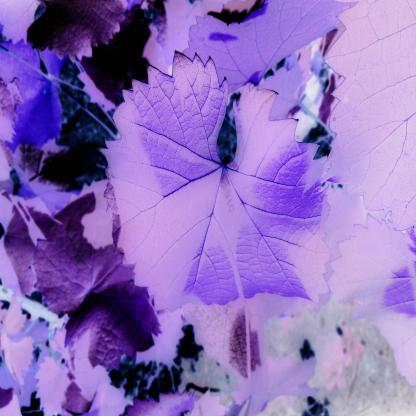grape leaf: (95, 50, 331, 324), (28, 210, 164, 364), (331, 2, 416, 230), (183, 2, 351, 97), (230, 349, 323, 416)
